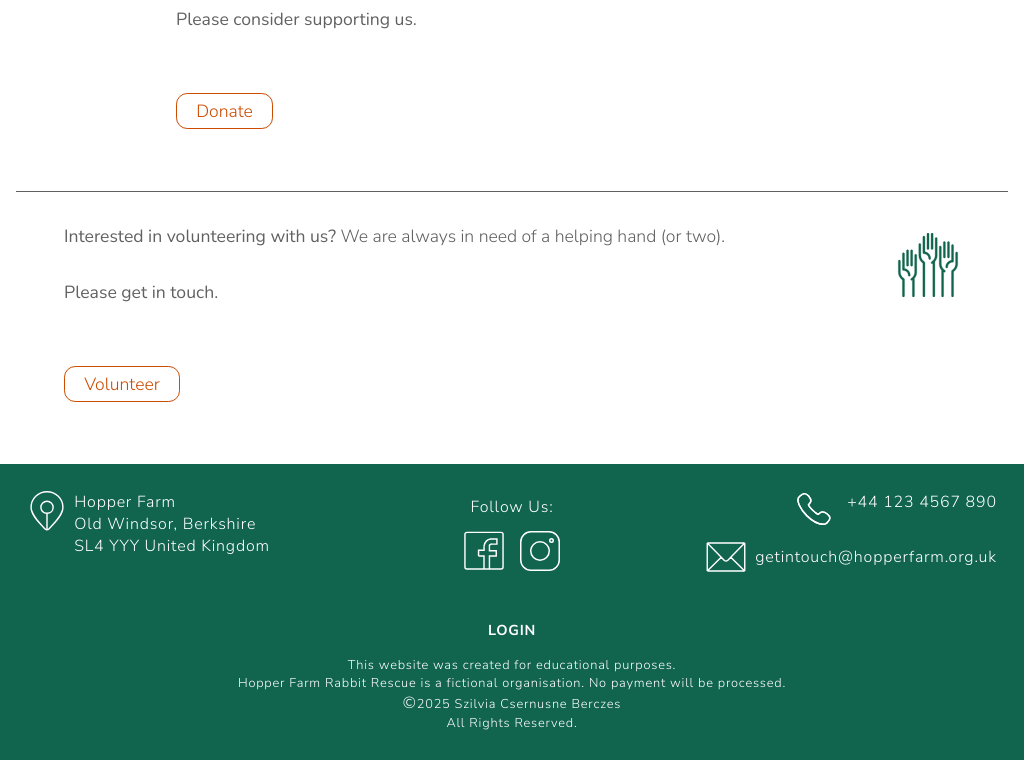
Test: about-page › should render Volunteer form when clicking "Volunteer" button
(page scrolled)
Click the button "Volunteer": point(122, 384) [64,366,180,402]
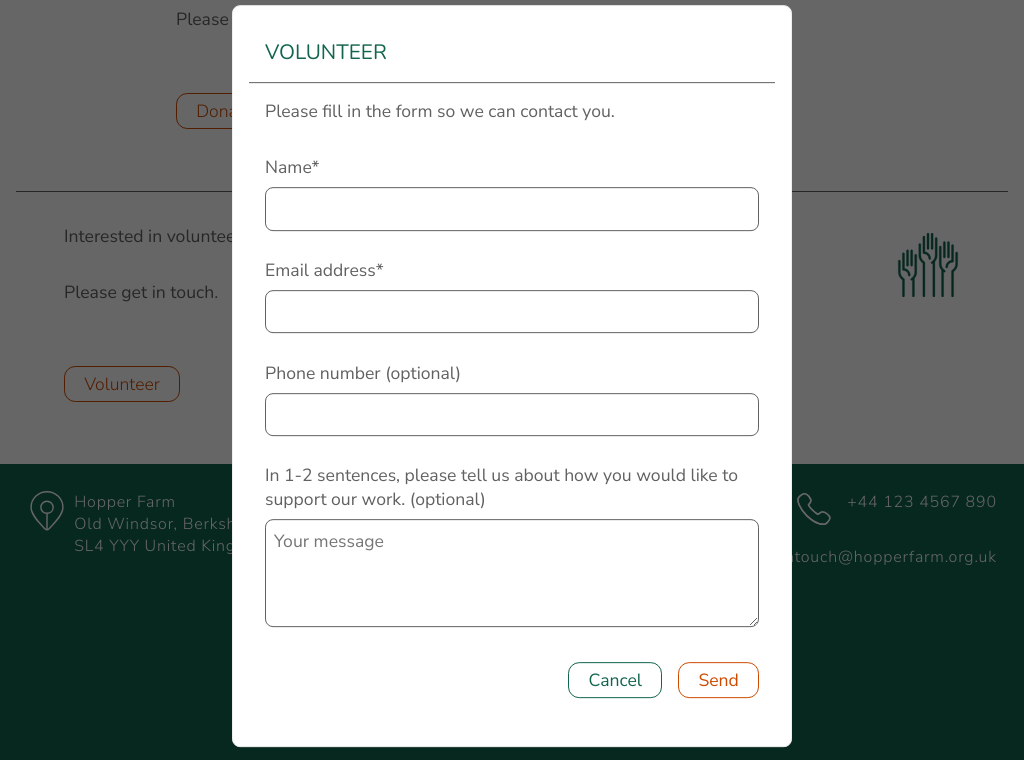
Expected: the form with test id "volunteer-form" is shown, [265,139,759,714]
